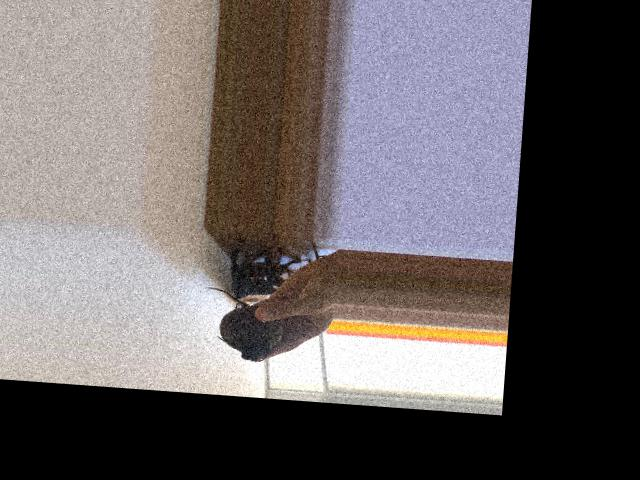beet: (199, 286, 285, 363)
